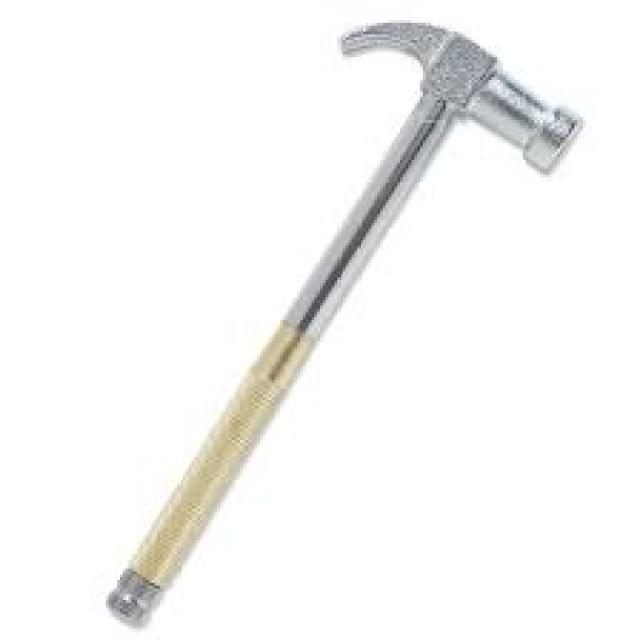Palu: (102, 19, 582, 632)
